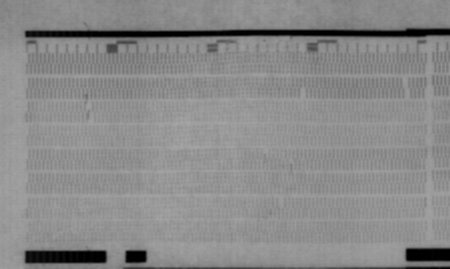Broken hole: (401, 76, 413, 99), (275, 196, 287, 210), (299, 87, 308, 99)
Oblique printing: (84, 110, 95, 124), (83, 96, 93, 111), (260, 147, 269, 163), (288, 160, 298, 172)
